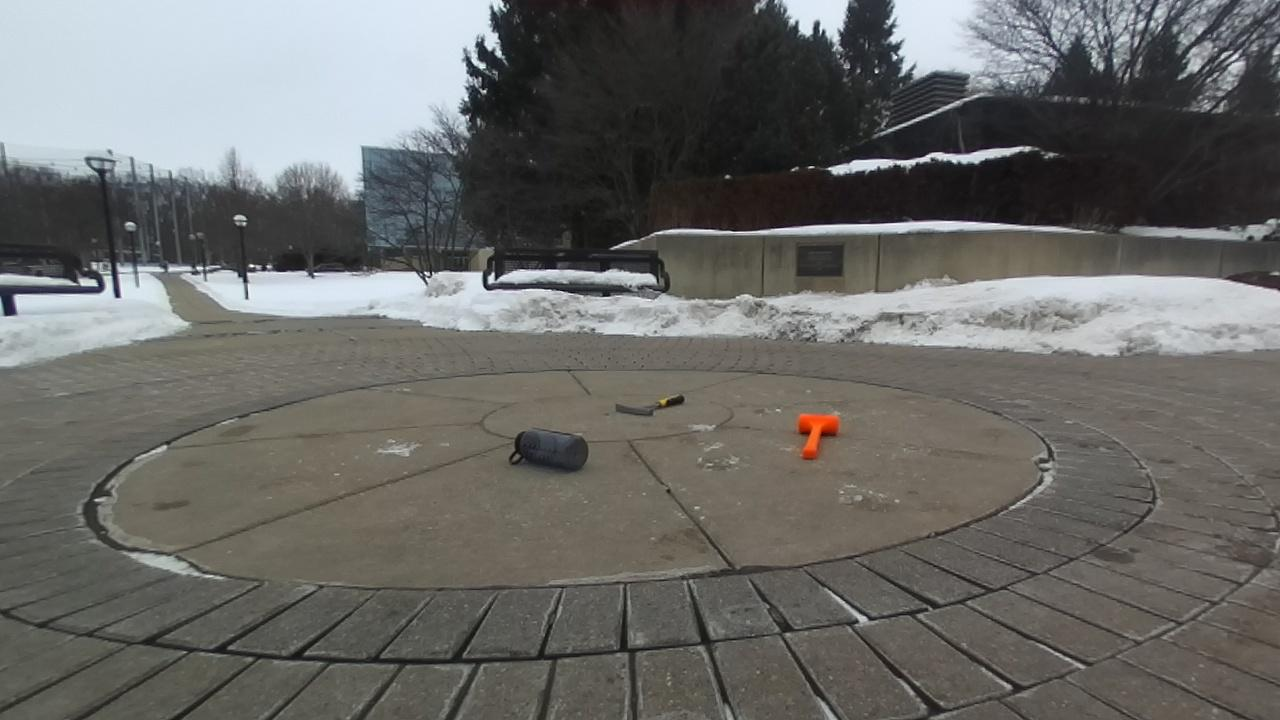bottle: (509, 429, 588, 470)
mallet: (798, 416, 838, 458)
pick: (615, 394, 684, 415)
